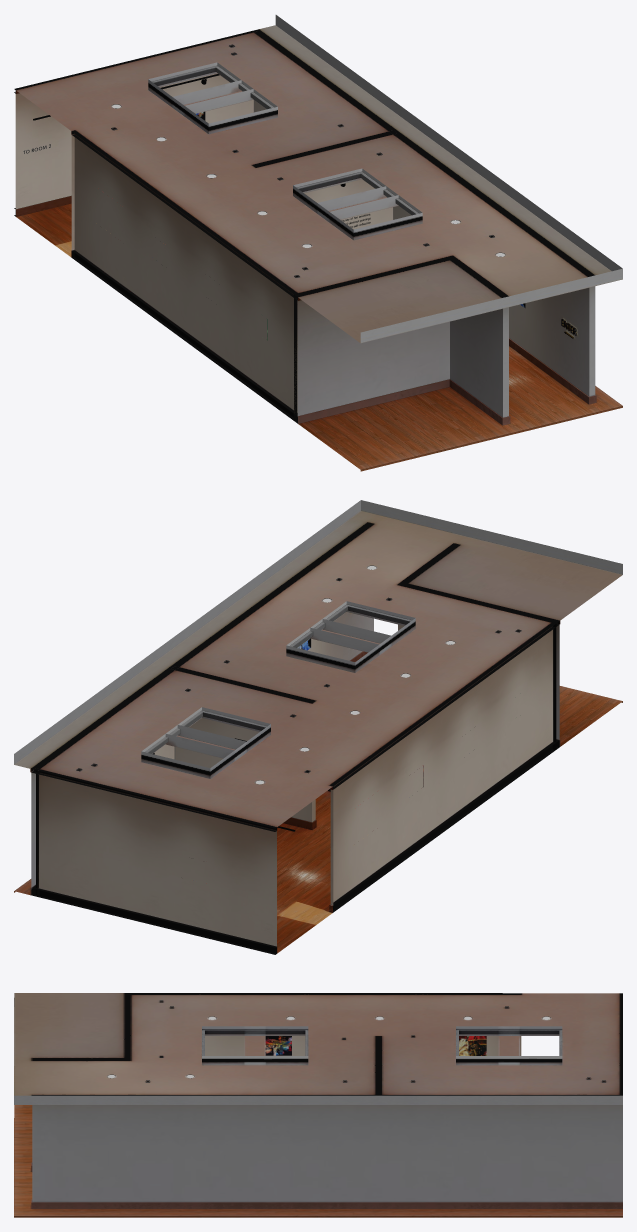
The model's file is asset.glb.
3 renders of one model, top to bottom at view 1: azimuth 30°, elevation 25°; view 2: azimuth 150°, elevation 25°; view 3: azimuth 270°, elevation 25°, orthographic. The views are drawn at different scales.
Parts seen in each view (by area): view 1: room_1; view 2: room_1; view 3: room_1.
Boxes of the visible parts, x1,y1,x2,y2 form: room_1: (14,15,622,471); room_1: (14,500,622,954); room_1: (14,993,622,1217).
Bounding box in the file's own units: 7.6 × 3.85 × 17.43.
Materials: 5 (5 with a texture image).
